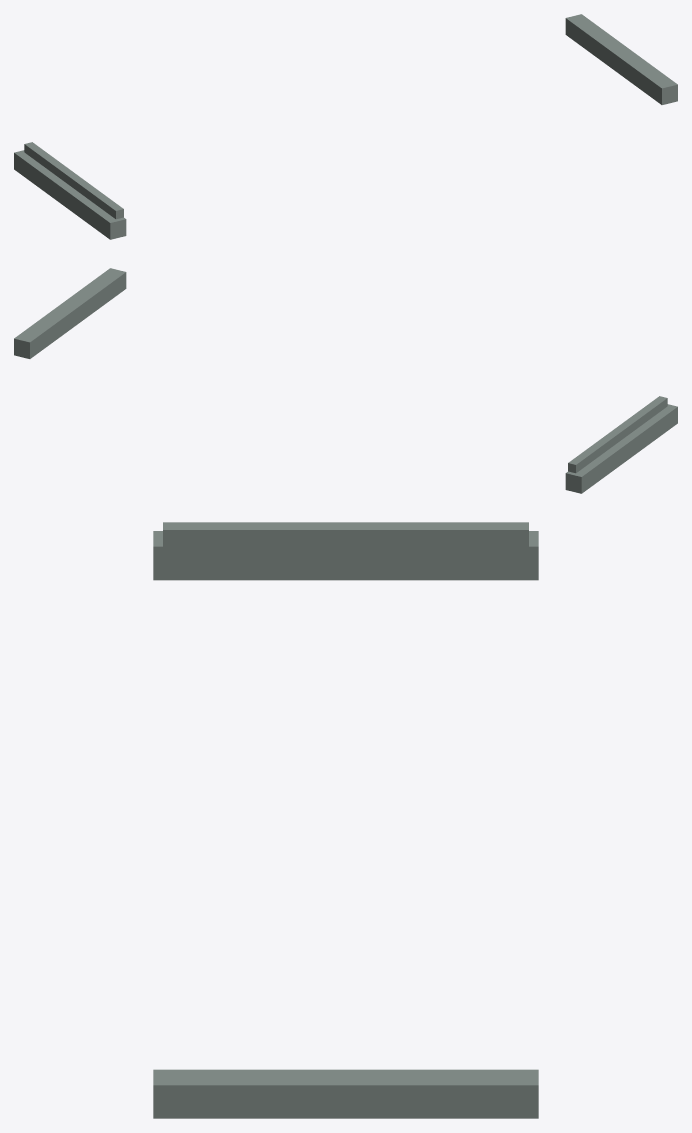
File: Bumper.glb
3 renders of one model, top to bottom at view 1: azimuth 30°, elevation 25°; view 2: azimuth 150°, elevation 25°; view 3: azimuth 270°, elevation 25°, orthographic. The views are drawn at different scales.
Visible parts, largest first — view 1: Cube.073; view 2: Cube.073; view 3: Cube.073.
Boxes of the visible parts, x1,y1,x2,y2 form: Cube.073: [14, 14, 677, 239]; Cube.073: [14, 268, 677, 493]; Cube.073: [153, 522, 538, 1118].
Size of the model in its own units: 0.2284 by 0.00968 by 0.0671.
Materials: 1 (1 with a texture image).
